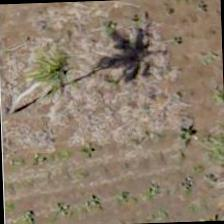Kelapa_Sawit: (1, 40, 94, 132)
